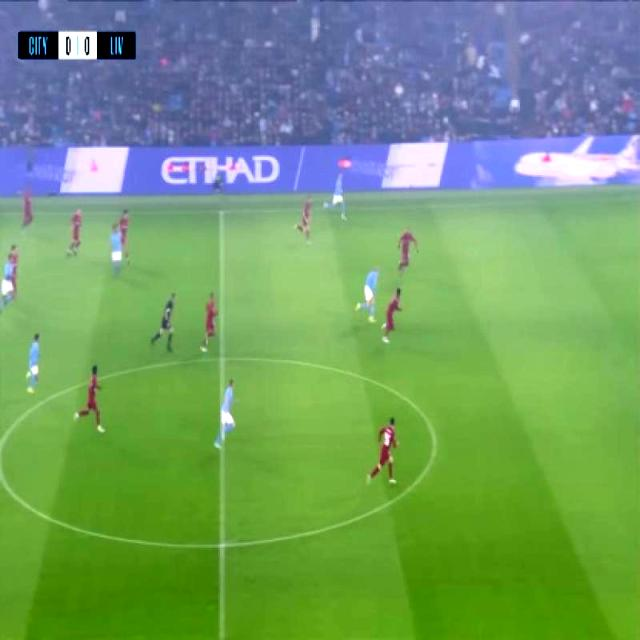halfcircle_bottom: (208, 525, 235, 565)
halfcircle_top: (206, 340, 236, 375)
midline_top_intersection: (211, 197, 231, 226)
